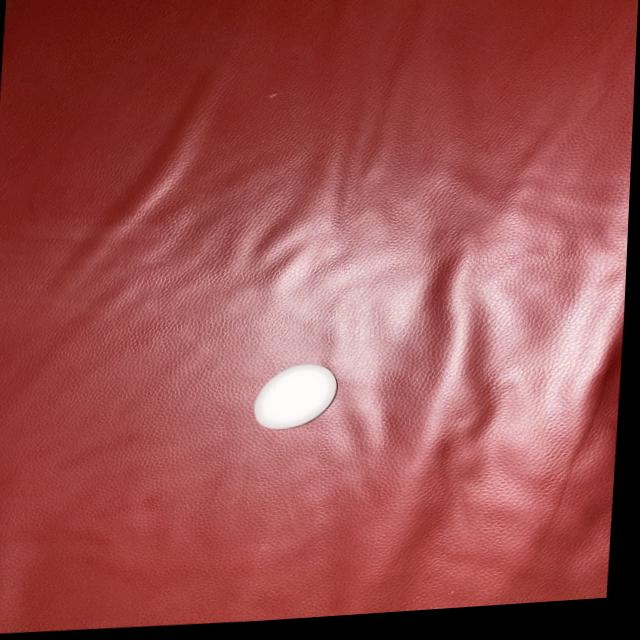egg: (253, 360, 346, 440)
